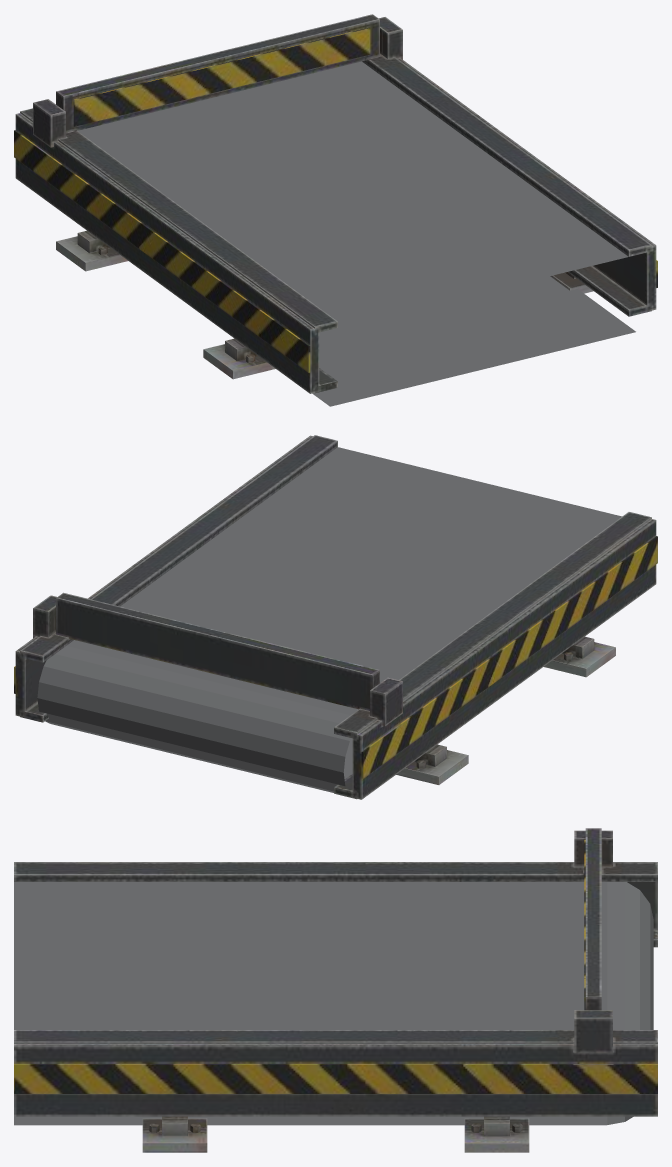
File: esteira_fim.glb
The picture shows the model from 3 angles, top to bottom: view 1: azimuth 30°, elevation 25°; view 2: azimuth 150°, elevation 25°; view 3: azimuth 270°, elevation 25°; orthographic projection. The views are drawn at different scales.
Parts seen in each view (by area): view 1: esteira_fim_corpo; view 2: esteira_fim_corpo; view 3: esteira_fim_corpo.
Part boxes in pixels (bbox=[...]): esteira_fim_corpo: bbox=[14, 14, 657, 406]; esteira_fim_corpo: bbox=[14, 435, 657, 799]; esteira_fim_corpo: bbox=[14, 828, 657, 1152].
Size of the model in its own units: 0.75 by 0.236 by 1.
Materials: 2 (1 with a texture image).
